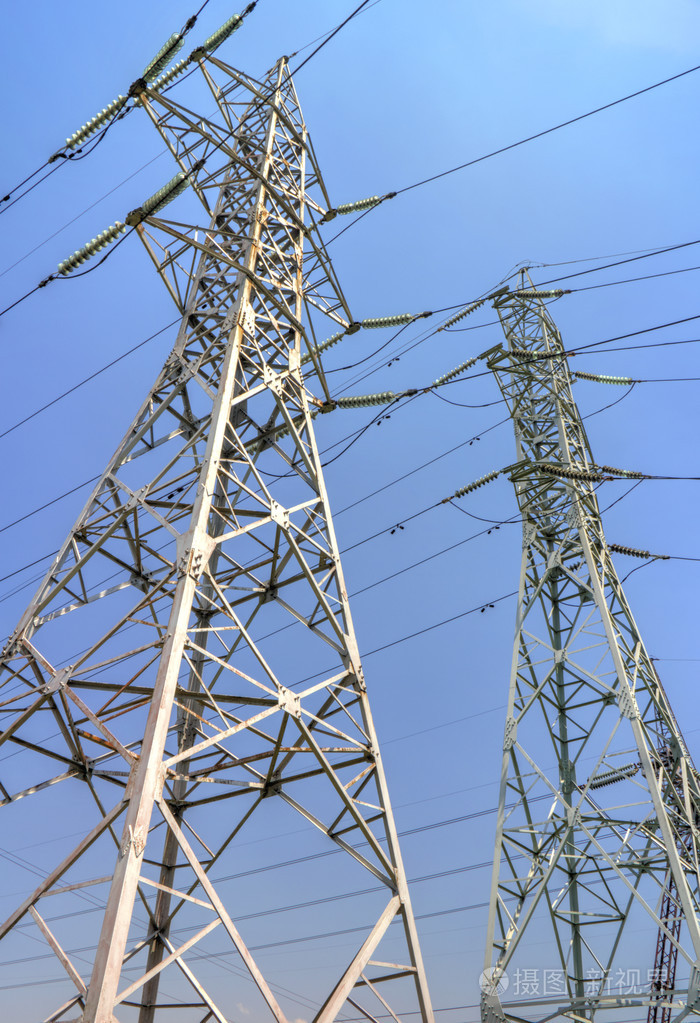insulator: (145, 16, 240, 101), (51, 220, 127, 275), (61, 93, 124, 145), (140, 171, 192, 214), (142, 32, 184, 80), (293, 331, 343, 369), (334, 391, 396, 413), (353, 309, 418, 329), (331, 192, 388, 210)
